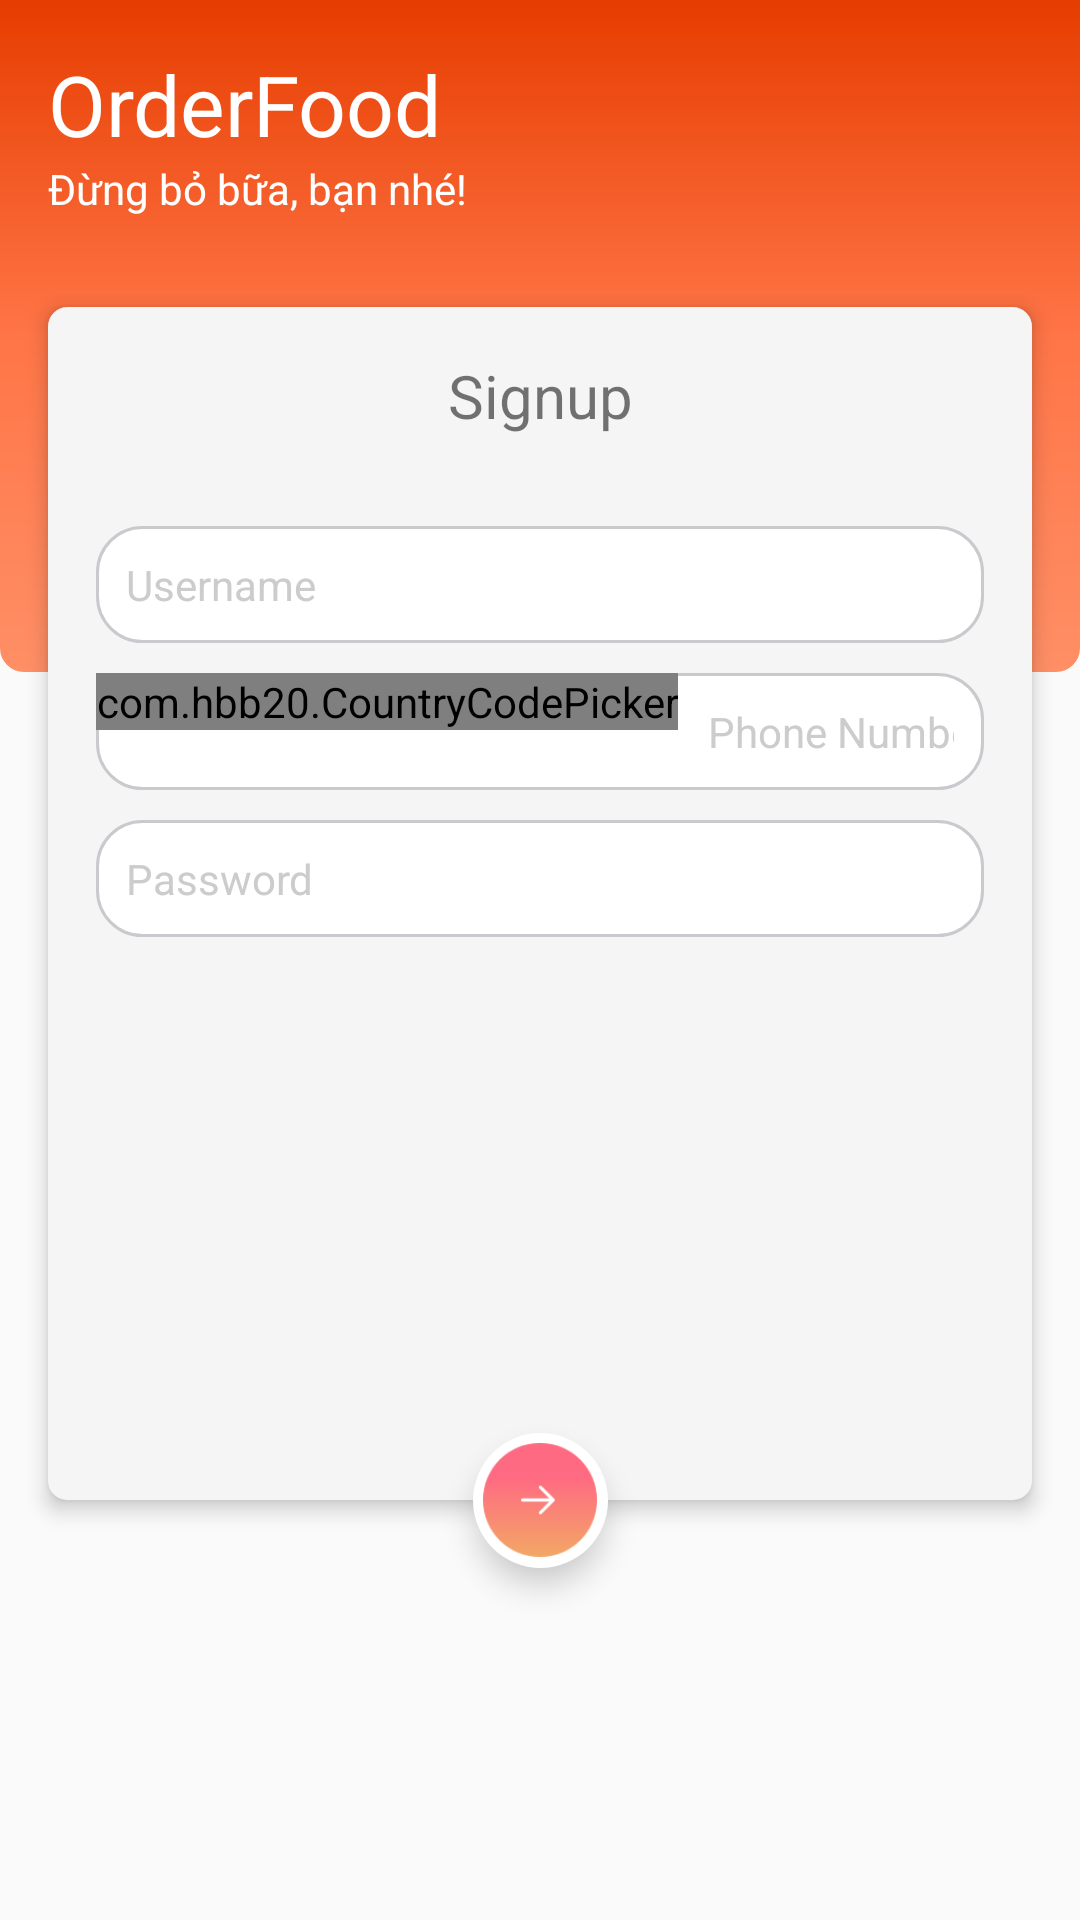

Icons on this 1080x1920 Android screen, each with its box as rect(x1, y1, x2, y2):
next: rect(483, 1443, 597, 1557)
